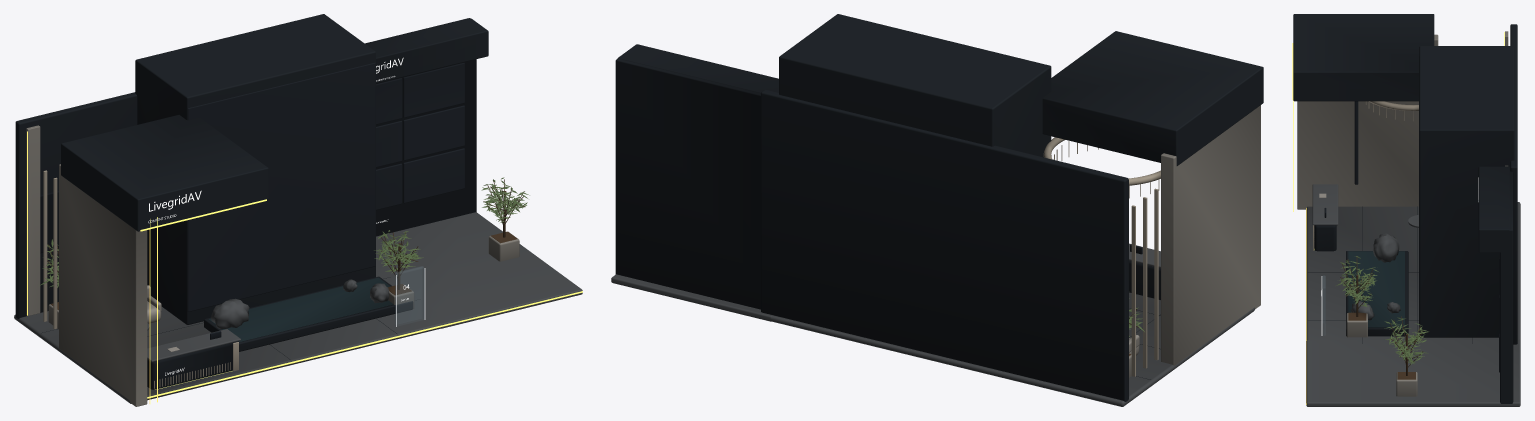
File: content-studio.glb
3 views of the same model, side by side, from view 1: azimuth 30°, elevation 25°; view 2: azimuth 150°, elevation 25°; view 3: azimuth 270°, elevation 25° (orthographic). The views are drawn at different scales.
Visible parts, largest first — view 1: Graphite lacquer, Screen substrate, Honed grey stone, Silver travertine, Obsidian water, Olive leaf, 3000K integrated light, Brushed champagne aluminium, Smoked architectural glass, Smoked oak, Brand porcelain; view 2: Graphite lacquer, Silver travertine, Honed grey stone, Brushed champagne aluminium; view 3: Graphite lacquer, Honed grey stone, Silver travertine, Obsidian water, Olive leaf, Smoked oak, Screen substrate, Brushed champagne aluminium, 3000K integrated light, Smoked architectural glass.
Part boxes in pixels (bbox=[...]): Graphite lacquer: bbox=[15, 14, 488, 389]; Screen substrate: bbox=[40, 62, 464, 339]; Honed grey stone: bbox=[14, 212, 582, 403]; Silver travertine: bbox=[26, 125, 519, 406]; Obsidian water: bbox=[208, 277, 393, 341]; Olive leaf: bbox=[39, 177, 529, 287]; 3000K integrated light: bbox=[27, 131, 582, 403]; Brushed champagne aluminium: bbox=[43, 170, 238, 388]; Smoked architectural glass: bbox=[395, 266, 423, 325]; Smoked oak: bbox=[47, 179, 524, 310]; Brand porcelain: bbox=[148, 57, 425, 375]; Graphite lacquer: bbox=[615, 14, 1263, 401]; Silver travertine: bbox=[1129, 105, 1260, 377]; Honed grey stone: bbox=[611, 243, 1254, 406]; Brushed champagne aluminium: bbox=[1043, 137, 1160, 376]; Graphite lacquer: bbox=[1293, 14, 1517, 403]; Honed grey stone: bbox=[1306, 184, 1520, 406]; Silver travertine: bbox=[1297, 31, 1508, 396]; Obsidian water: bbox=[1348, 251, 1404, 327]; Olive leaf: bbox=[1336, 256, 1428, 364]; Smoked oak: bbox=[1340, 257, 1423, 379]; Screen substrate: bbox=[1324, 56, 1499, 372]; Brushed champagne aluminium: bbox=[1313, 101, 1418, 250]; 3000K integrated light: bbox=[1292, 32, 1504, 404]; Smoked architectural glass: bbox=[1322, 275, 1325, 335].
Size of the model in its own units: 18.27 by 9 by 8.73.
